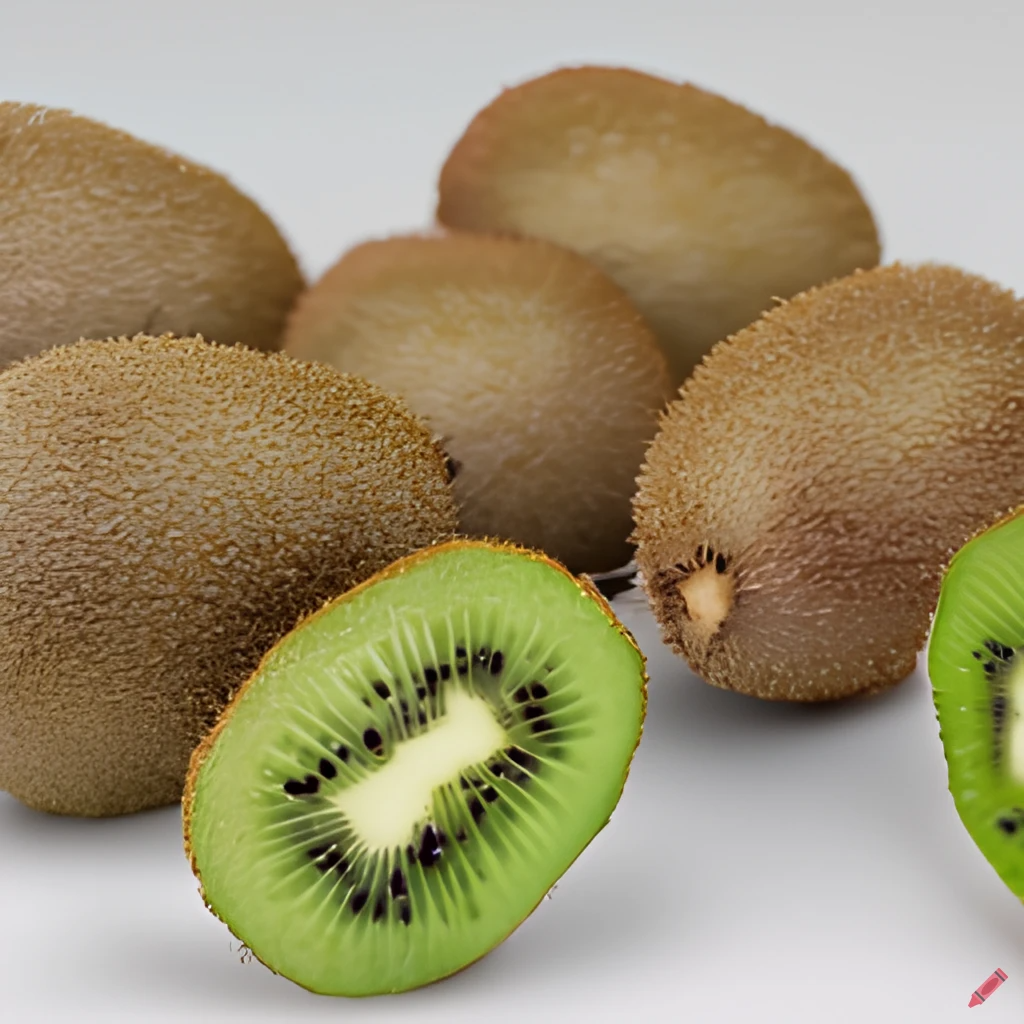Kiwi: (172, 531, 682, 1006), (0, 339, 484, 786), (617, 245, 1024, 684), (241, 218, 642, 546), (414, 46, 908, 300)
